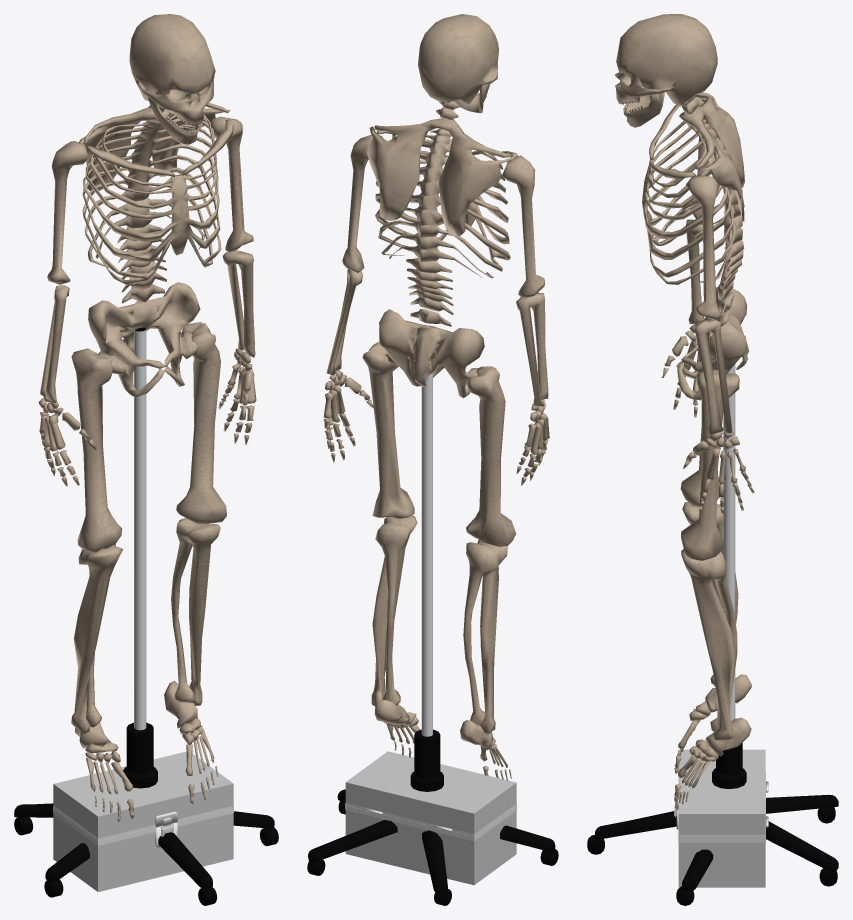
File: SkellyNew.fbx
3 renders of one model, left to right at view 1: azimuth 30°, elevation 25°; view 2: azimuth 150°, elevation 25°; view 3: azimuth 270°, elevation 25°, orthographic. The views are drawn at different scales.
Visible parts, largest first — view 1: SkellyBody, Stand, Box.001, Box, SkellyHead, right_humerus, left_ulnaradius, left_humerus, right_hand, left_hand, right_ulnaradius, jaw; view 2: SkellyBody, Stand, Box.001, Box, SkellyHead, right_humerus, right_ulnaradius, left_humerus, left_hand, right_hand, left_ulnaradius; view 3: SkellyBody, Stand, SkellyHead, Box.001, Box, left_humerus, left_ulnaradius, left_hand, right_ulnaradius, jaw, right_hand.
Boxes of the visible parts, left/top/right/bottom form: SkellyBody: left=71, top=102, right=233, bottom=821; Stand: left=14, top=327, right=278, bottom=905; Box.001: left=53, top=751, right=233, bottom=840; Box: left=53, top=808, right=233, bottom=891; SkellyHead: left=129, top=14, right=215, bottom=126; right_humerus: left=47, top=141, right=88, bottom=284; left_ulnaradius: left=222, top=250, right=255, bottom=357; left_humerus: left=209, top=116, right=253, bottom=251; right_hand: left=38, top=395, right=97, bottom=486; left_hand: left=218, top=348, right=256, bottom=444; right_ulnaradius: left=40, top=285, right=69, bottom=403; jaw: left=145, top=87, right=202, bottom=144; SkellyBody: left=362, top=101, right=517, bottom=780; Stand: left=307, top=372, right=558, bottom=905; Box.001: left=345, top=751, right=516, bottom=836; Box: left=345, top=805, right=516, bottom=885; SkellyHead: left=418, top=14, right=498, bottom=104; right_humerus: left=502, top=155, right=544, bottom=297; right_ulnaradius: left=516, top=292, right=548, bottom=405; left_humerus: left=342, top=134, right=382, bottom=272; left_hand: left=323, top=370, right=373, bottom=462; right_hand: left=516, top=399, right=549, bottom=485; left_ulnaradius: left=326, top=269, right=362, bottom=375; SkellyBody: left=642, top=94, right=751, bottom=808; Stand: left=587, top=364, right=838, bottom=905; SkellyHead: left=614, top=14, right=717, bottom=104; Box.001: left=675, top=749, right=768, bottom=837; Box: left=674, top=805, right=765, bottom=887; left_humerus: left=686, top=175, right=721, bottom=319; left_ulnaradius: left=695, top=320, right=732, bottom=435; left_hand: left=683, top=432, right=754, bottom=515; right_ulnaradius: left=686, top=219, right=711, bottom=324; jaw: left=623, top=92, right=665, bottom=127; right_hand: left=661, top=323, right=699, bottom=417.
Size of the model in its own units: 43.78 by 159 by 43.19.
